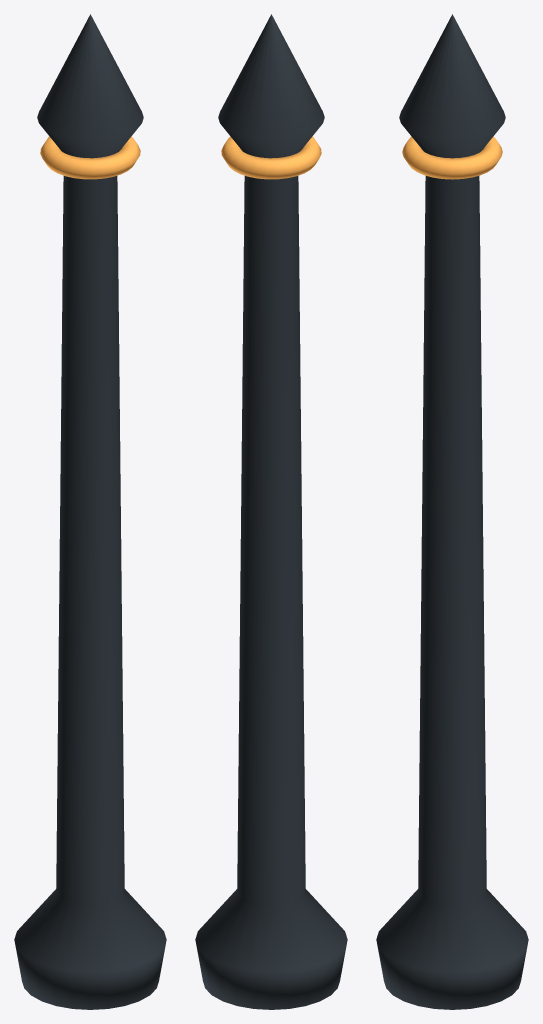
Rendered from hollowwick-halloween-scroll-fence-terminal-e26176ac__21633.glb.
3 views of the same model, side by side, from view 1: azimuth 30°, elevation 25°; view 2: azimuth 150°, elevation 25°; view 3: azimuth 270°, elevation 25° (orthographic).
Parts seen in each view (by area): view 1: scroll-fence-terminal; view 2: scroll-fence-terminal; view 3: scroll-fence-terminal.
Part boxes in pixels (bbox=[...]): scroll-fence-terminal: bbox=[14, 14, 166, 1009]; scroll-fence-terminal: bbox=[195, 14, 347, 1009]; scroll-fence-terminal: bbox=[376, 14, 528, 1009].
Bounding box in the file's own units: 0.2 × 1.4 × 0.2.
